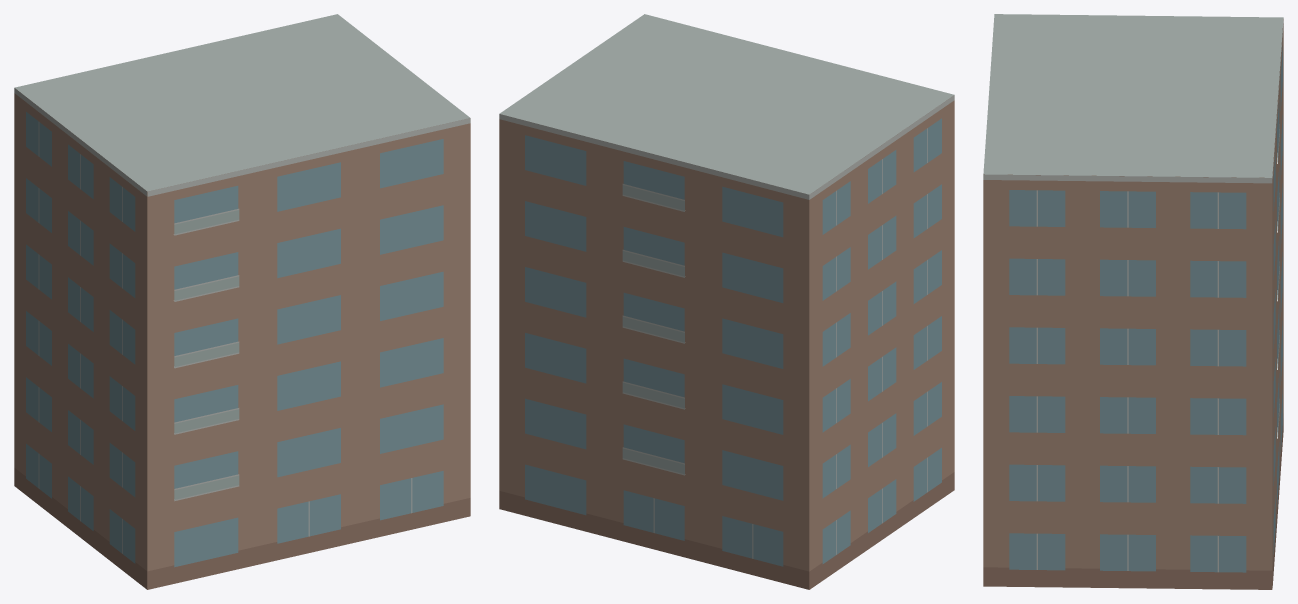
Rendered from survey-upis-32812574.glb.
The picture shows the model from 3 angles, left to right: view 1: azimuth 30°, elevation 25°; view 2: azimuth 150°, elevation 25°; view 3: azimuth 270°, elevation 25°; orthographic projection. The views are drawn at different scales.
Parts seen in each view (by area): view 1: survey-upis-32812574.tmp; view 2: survey-upis-32812574.tmp; view 3: survey-upis-32812574.tmp.
Boxes of the visible parts, box(x1,y1,x2,y2) form: survey-upis-32812574.tmp: box(14, 14, 470, 589); survey-upis-32812574.tmp: box(499, 14, 954, 589); survey-upis-32812574.tmp: box(983, 14, 1283, 589).
Bounding box in the file's own units: 15.62 × 18.3 × 12.09.
